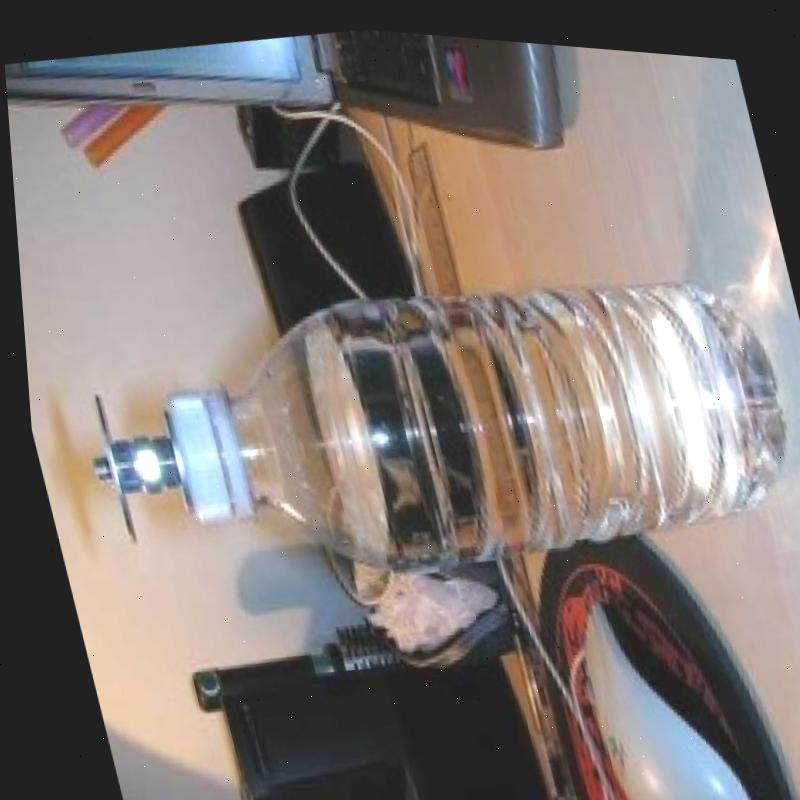botella: (132, 206, 800, 623)
